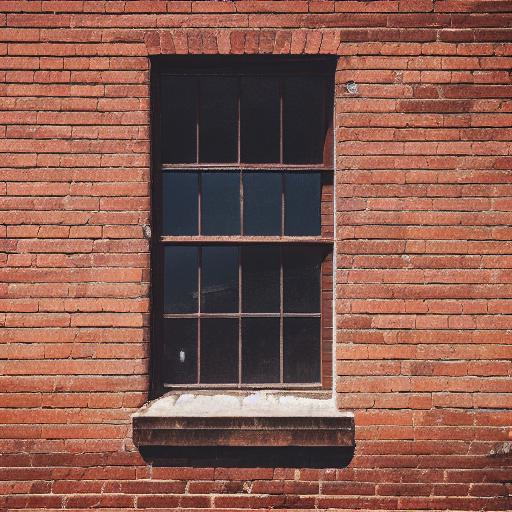Window: (130, 30, 358, 451)
